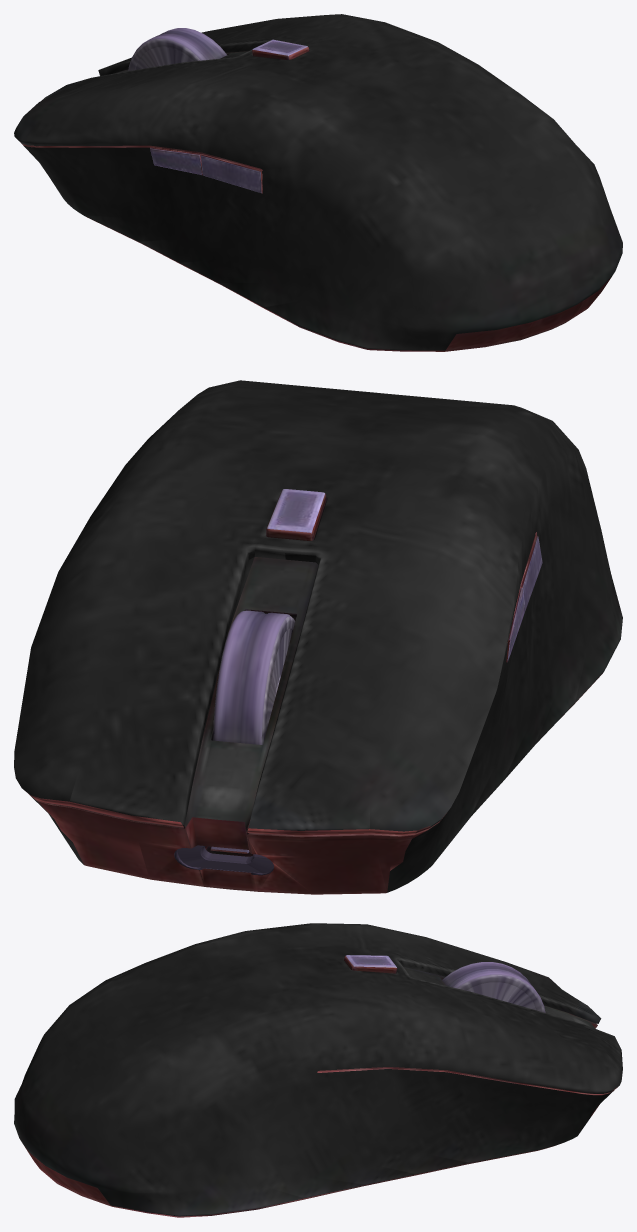
File: mouse.glb
The picture shows the model from 3 angles, top to bottom: view 1: azimuth 30°, elevation 25°; view 2: azimuth 150°, elevation 25°; view 3: azimuth 270°, elevation 25°; orthographic projection. The views are drawn at different scales.
Visible parts, largest first — view 1: Mouse; view 2: Mouse; view 3: Mouse.
Boxes of the visible parts, x1,y1,x2,y2 form: Mouse: [14, 14, 622, 351]; Mouse: [14, 380, 622, 894]; Mouse: [14, 923, 622, 1217].
Bounding box in the file's own units: 0.0886 × 0.0379 × 0.1272.
1 material, 1 textured.
